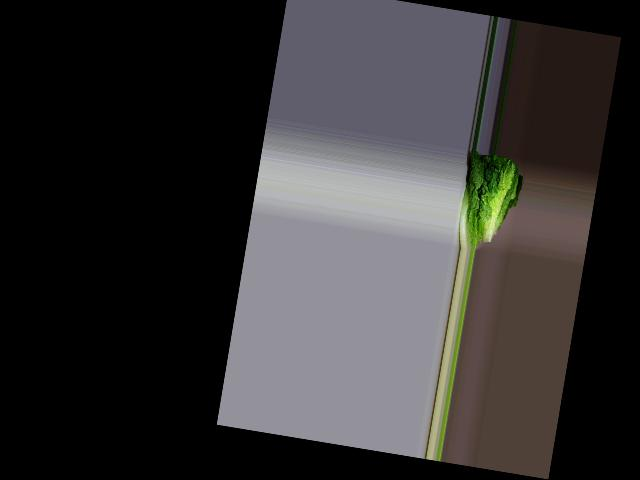lettuce: (453, 149, 519, 249)
